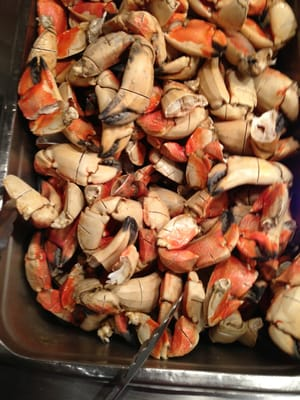pasta: (1, 1, 300, 383)
